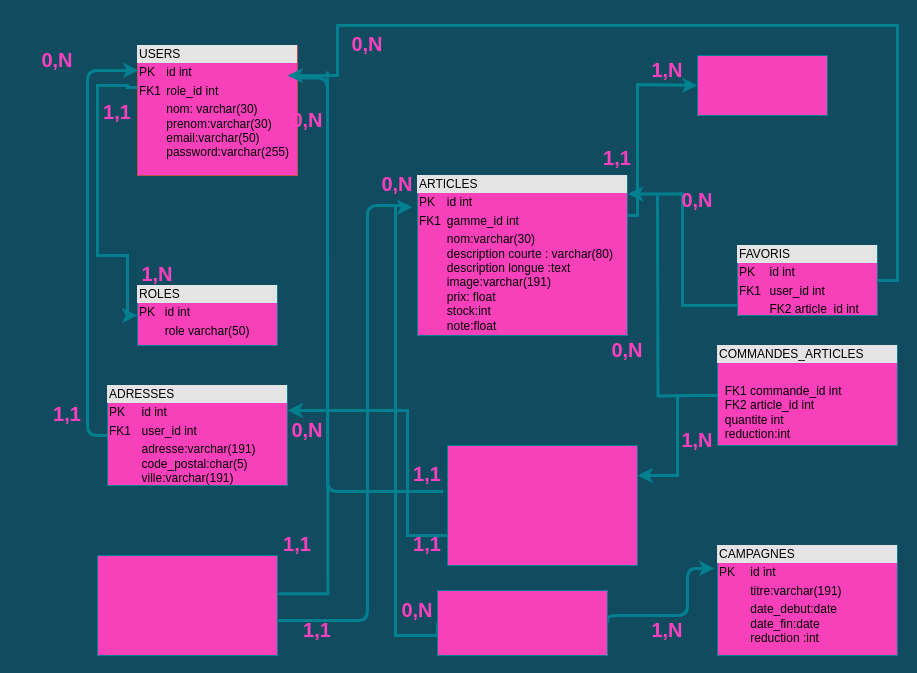
The diagram is 917 pixels wide and 673 high, and some of its shapes have lost their labels. Each missing label, with the box of its shape:
AVIS PK id int FK1 user_id FK2 article_id int contenu:varchar(191) note:int: (96, 554, 278, 656)
CAMPAGNES_ARTICLES FK1 campagne_id int FK2 article_id int: (436, 590, 608, 656)
COMMANDES PK id int FK1 user_id int numero:int prix:float FK2 adresse_id: (446, 444, 638, 566)
GAMMES PK id int nom: (696, 54, 828, 116)
